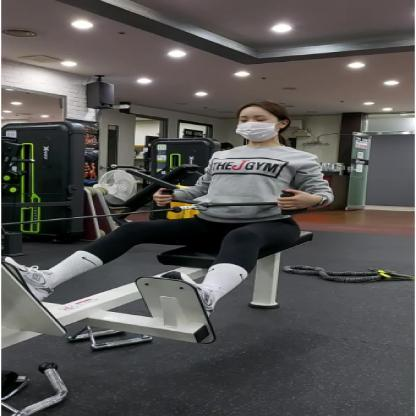Seated Cable Rows: (8, 85, 325, 393)
